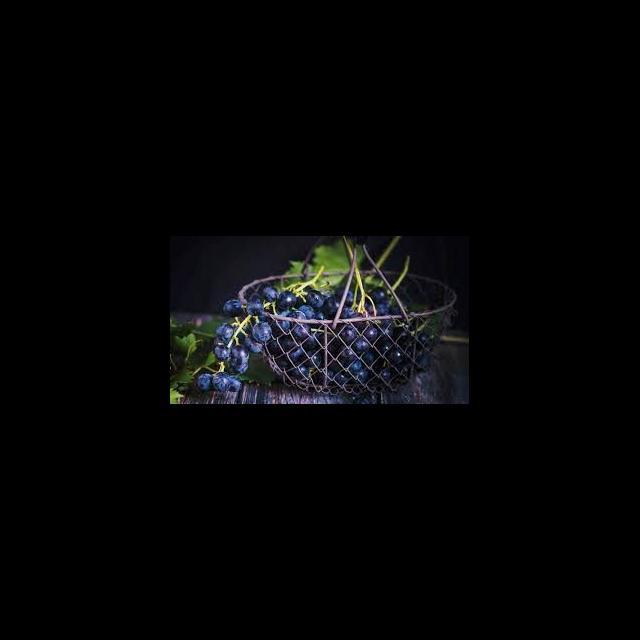grape: (196, 282, 432, 395)
